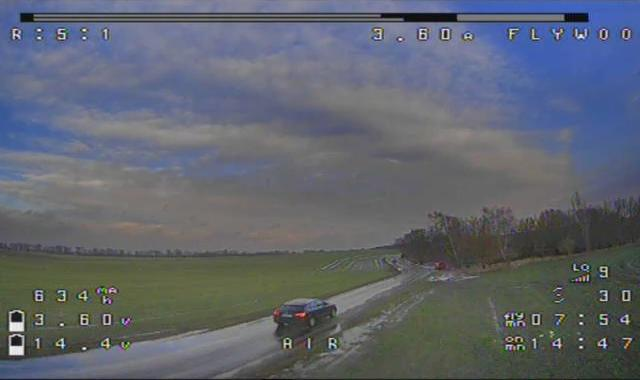car: (273, 298, 339, 337)
